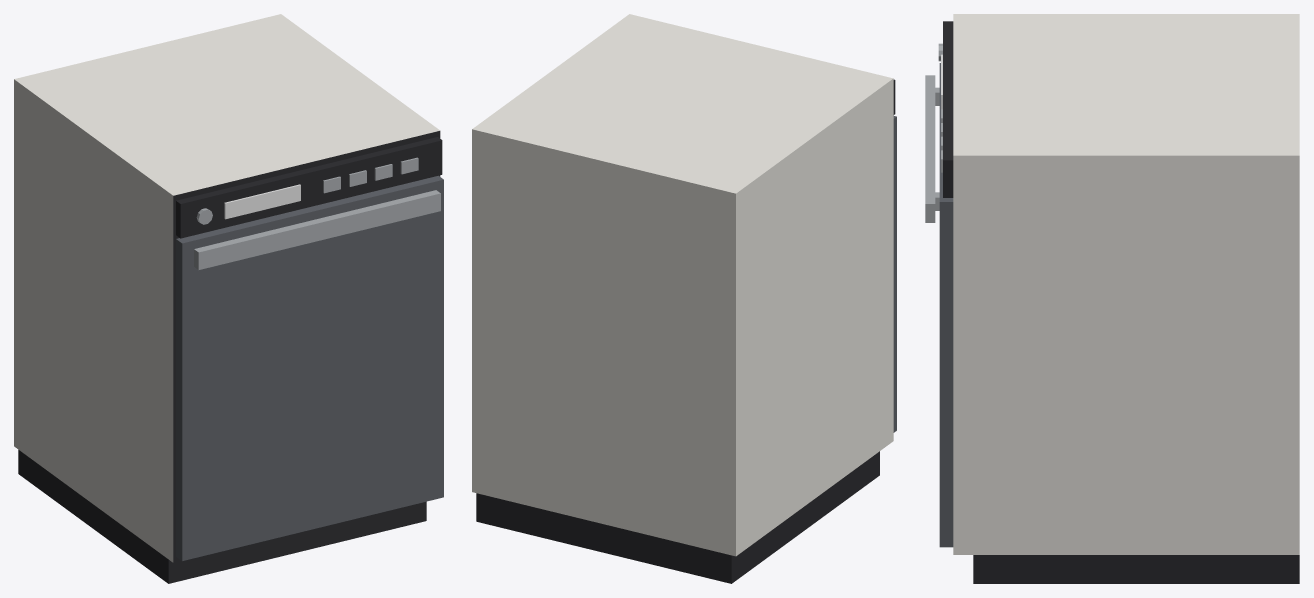
Rendered from FN_Appliance_Dishwasher.fbx.
3 renders of one model, left to right at view 1: azimuth 30°, elevation 25°; view 2: azimuth 150°, elevation 25°; view 3: azimuth 270°, elevation 25°, orthographic. The views are drawn at different scales.
Parts seen in each view (by area): view 1: FN_Appliance_Dishwasher; view 2: FN_Appliance_Dishwasher; view 3: FN_Appliance_Dishwasher.
Part boxes in pixels (bbox=[...]): FN_Appliance_Dishwasher: bbox=[14, 14, 443, 583]; FN_Appliance_Dishwasher: bbox=[472, 14, 896, 583]; FN_Appliance_Dishwasher: bbox=[925, 14, 1299, 583].
Size of the model in its own units: 60 by 85 by 67.
Materials: 2 (1 with a texture image).
